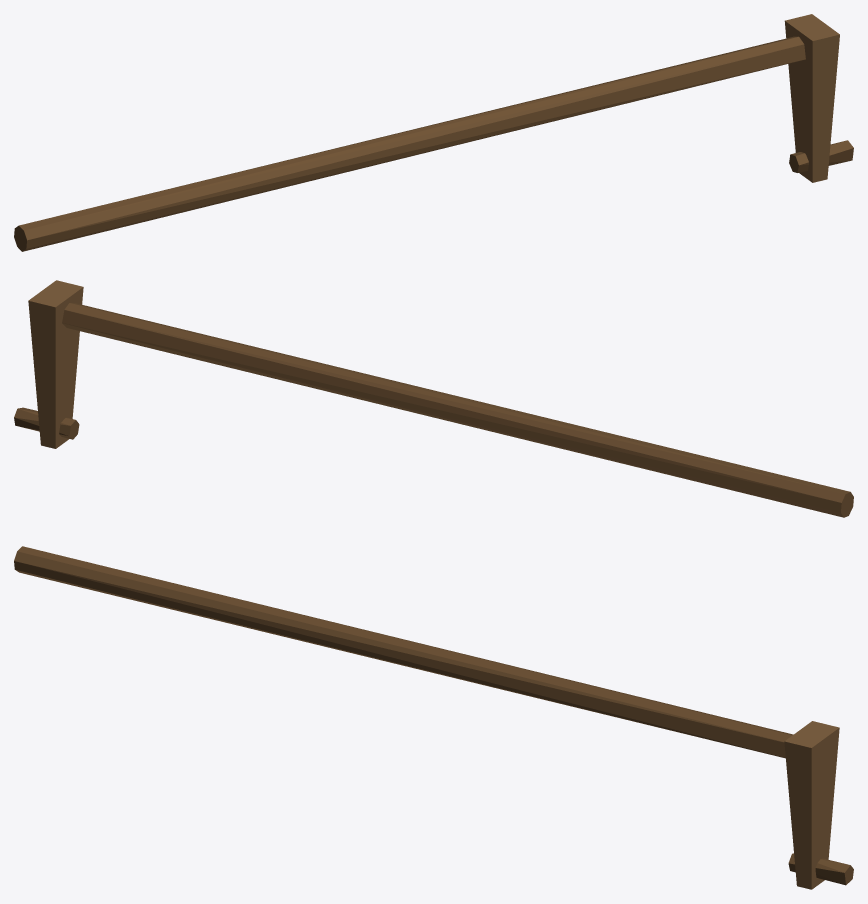
Rendered from Mesh_Props_Well Handle.FBX.
3 views of the same model, one above another, from view 1: azimuth 30°, elevation 25°; view 2: azimuth 150°, elevation 25°; view 3: azimuth 330°, elevation 25° (orthographic).
Visible parts, largest first — view 1: Mesh_Props_Well_01; view 2: Mesh_Props_Well_01; view 3: Mesh_Props_Well_01.
Part boxes in pixels (bbox=[...]): Mesh_Props_Well_01: bbox=[14, 14, 853, 251]; Mesh_Props_Well_01: bbox=[14, 280, 853, 517]; Mesh_Props_Well_01: bbox=[14, 546, 853, 889].
Bounding box in the file's own units: 219 × 37.42 × 12.85.
